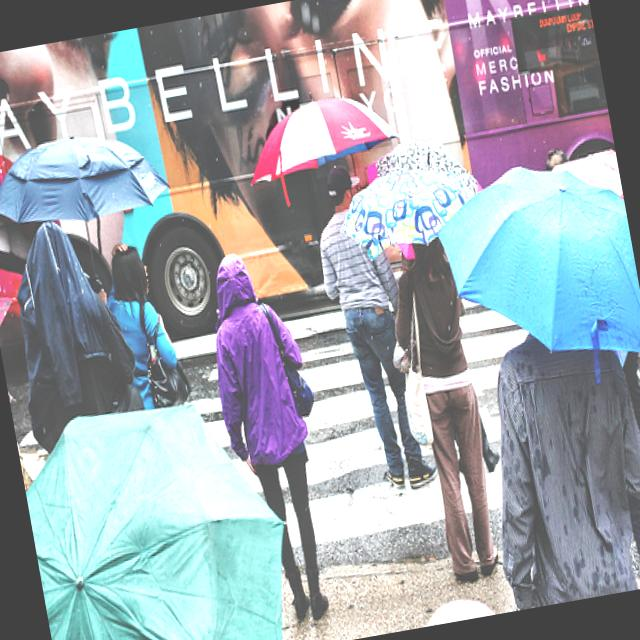Vehicle: (0, 0, 632, 360)
